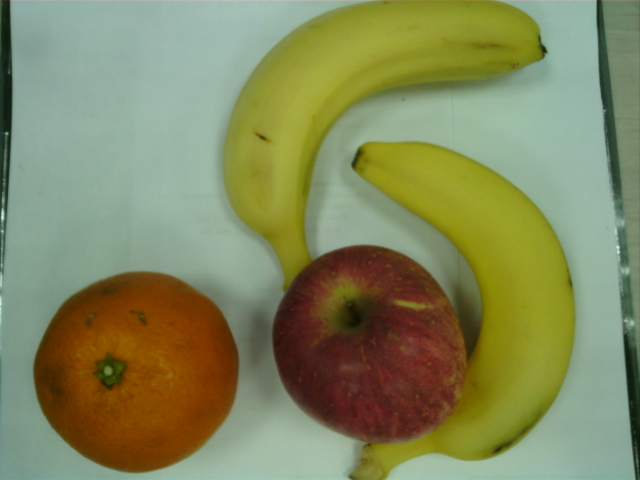normal_apple: (272, 244, 468, 443)
normal_banana: (222, 1, 548, 281), (355, 141, 576, 480)
normal_orange: (34, 271, 240, 474)
